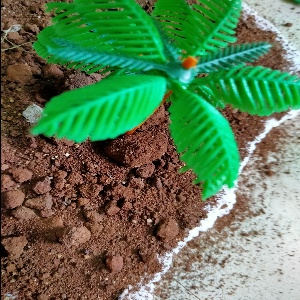plant: (31, 1, 300, 199)
